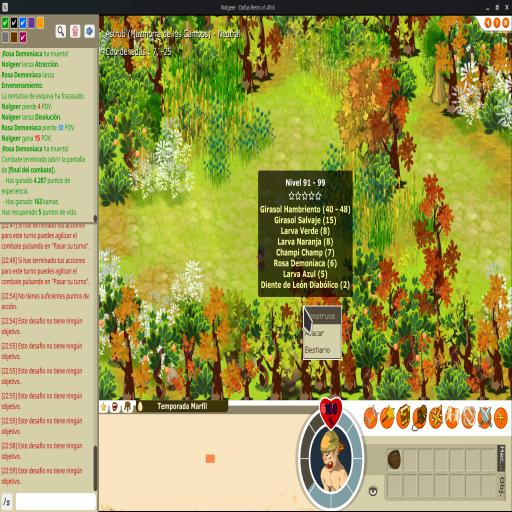Enemigos: (291, 256, 309, 296)
Personaje: (256, 246, 266, 272)
